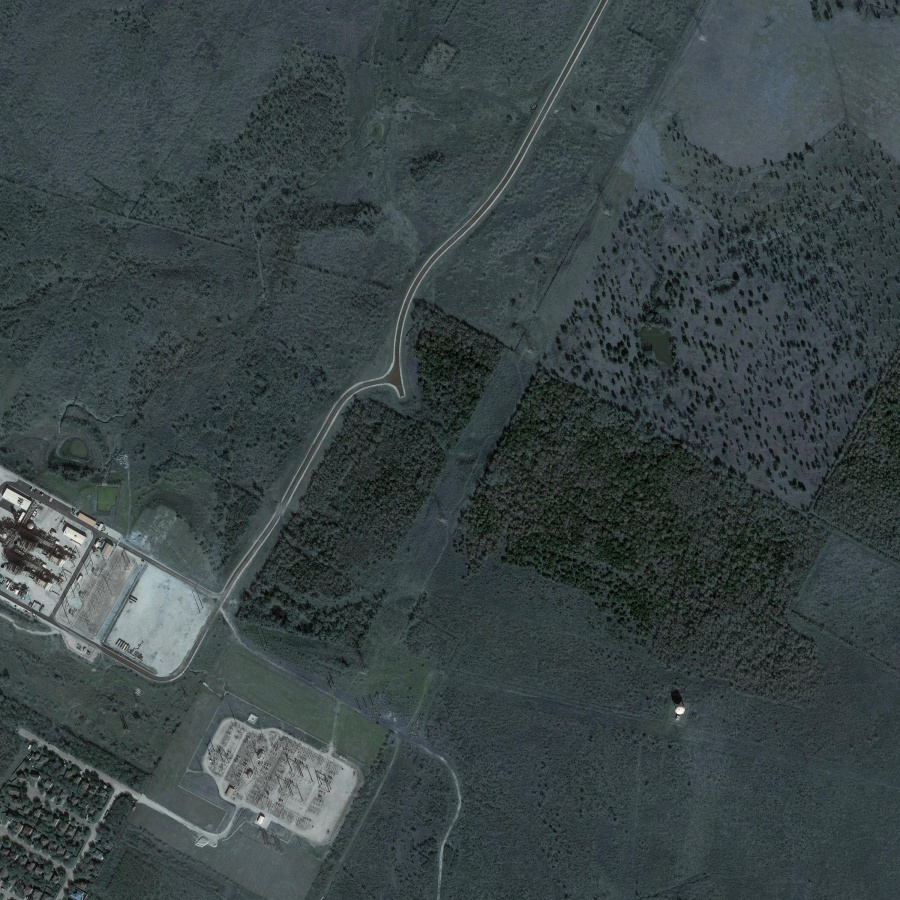PowerPlant: (200, 702, 346, 838)
